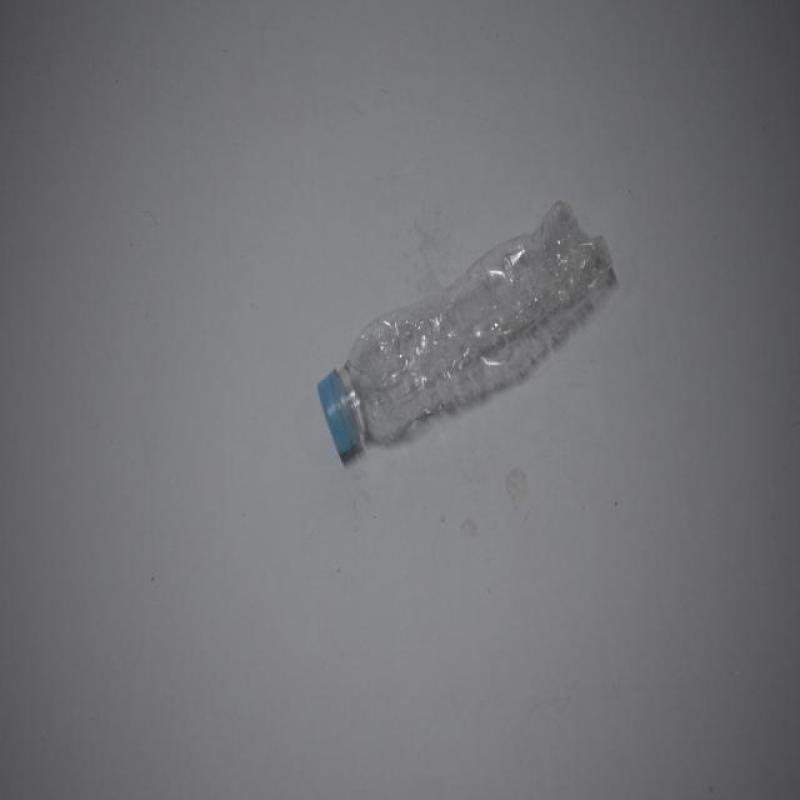botella: (318, 203, 614, 462)
